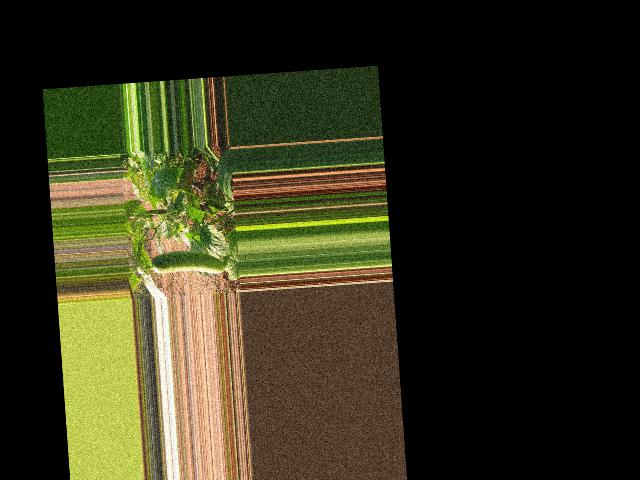cucumber: (151, 248, 225, 278)
